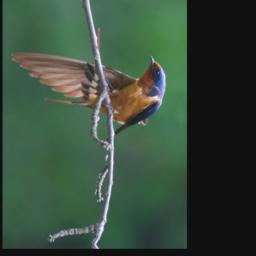Swallow: (10, 42, 170, 148)
